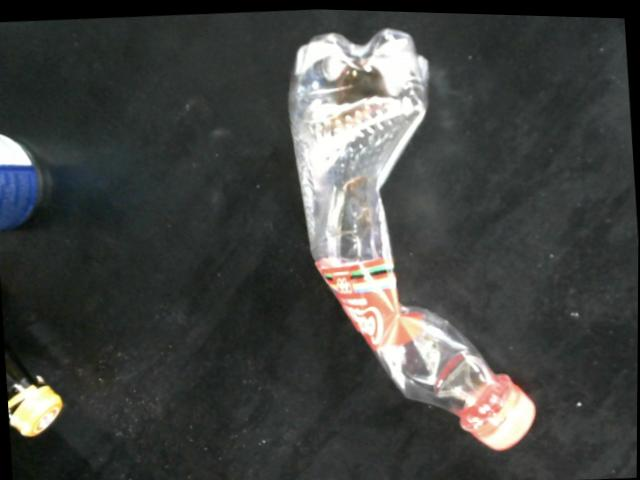bottle: (285, 25, 537, 449)
